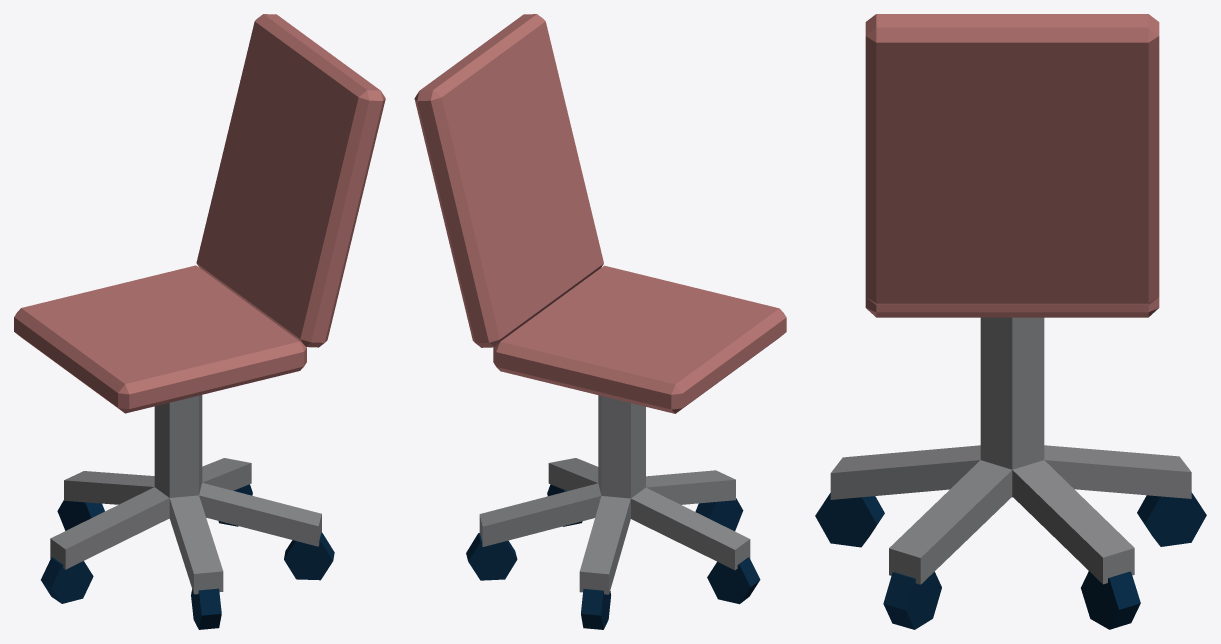
Rendered from O_Environment_DeskChair.fbx.
3 views of the same model, side by side, from view 1: azimuth 30°, elevation 25°; view 2: azimuth 150°, elevation 25°; view 3: azimuth 270°, elevation 25° (orthographic). The views are drawn at different scales.
Parts seen in each view (by area): view 1: pCylinder7; view 2: pCylinder7; view 3: pCylinder7.
Part boxes in pixels (x1,y1,x2,y2): pCylinder7: (14,14,385,629); pCylinder7: (414,14,786,629); pCylinder7: (815,14,1206,629).
Bounding box in the file's own units: 1.79 × 2.88 × 1.61.
